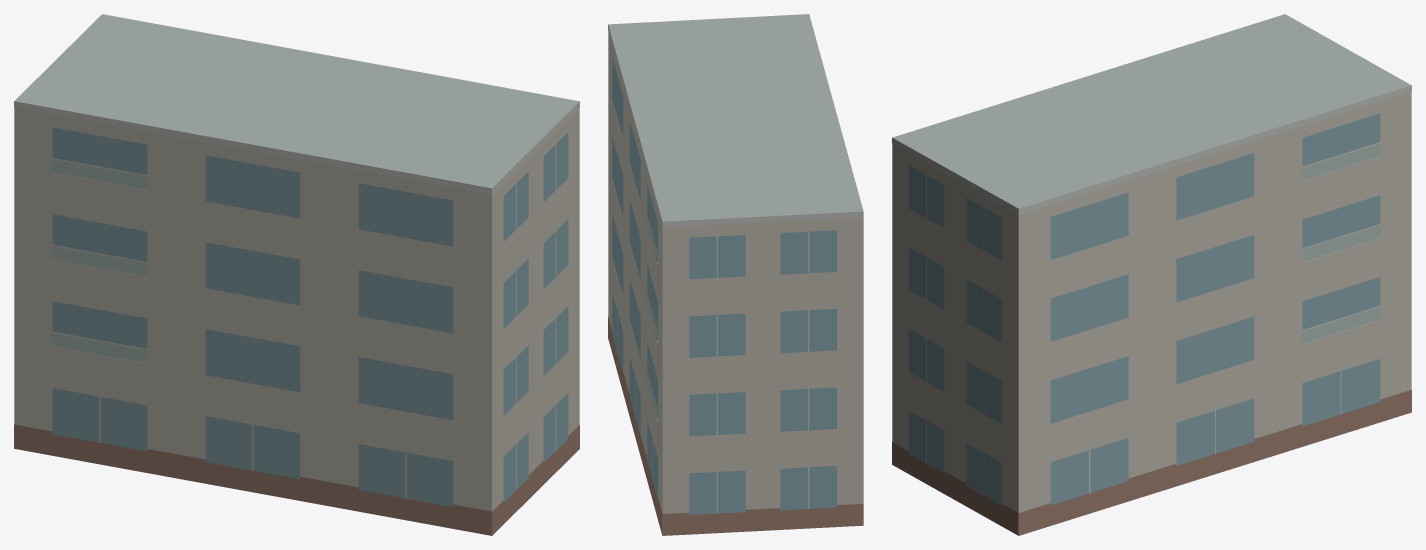
Rendered from survey-upis-33026049.glb.
The picture shows the model from 3 angles, left to right: view 1: azimuth 30°, elevation 25°; view 2: azimuth 150°, elevation 25°; view 3: azimuth 270°, elevation 25°; orthographic projection. The views are drawn at different scales.
Parts seen in each view (by area): view 1: survey-upis-33026049.tmp; view 2: survey-upis-33026049.tmp; view 3: survey-upis-33026049.tmp.
Part boxes in pixels (x1,y1,x2,y2): survey-upis-33026049.tmp: (14, 14, 579, 535); survey-upis-33026049.tmp: (608, 14, 863, 535); survey-upis-33026049.tmp: (892, 14, 1411, 535).
Size of the model in its own units: 16.61 by 13 by 18.72.
